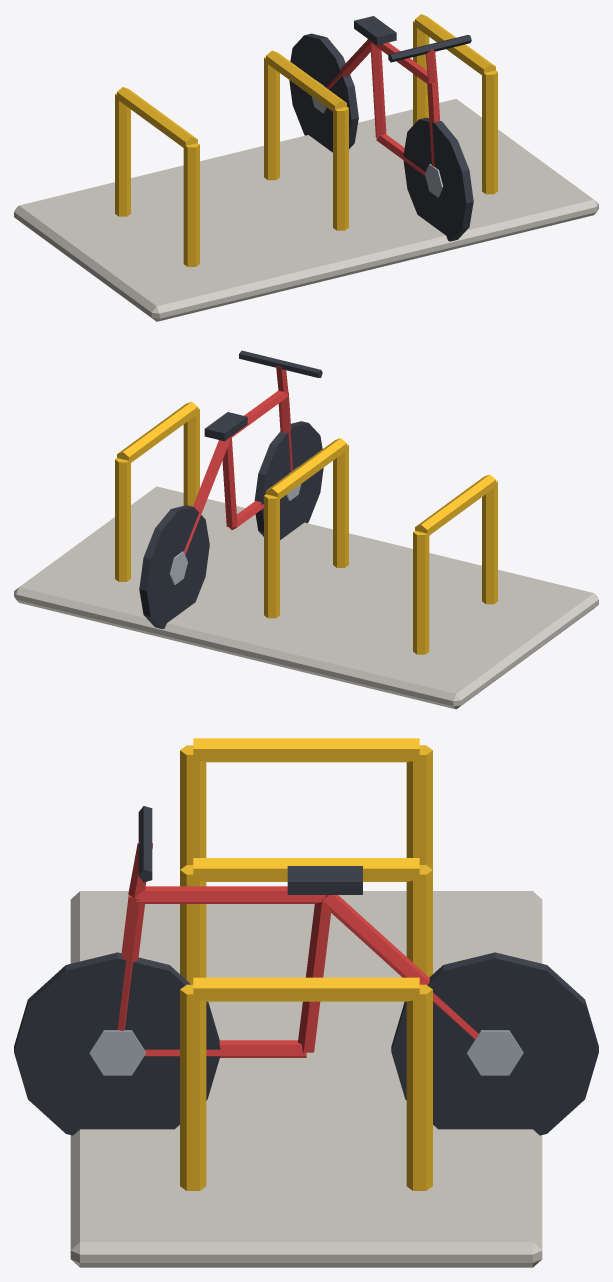
File: bicicletario.glb
The picture shows the model from 3 angles, top to bottom: view 1: azimuth 30°, elevation 25°; view 2: azimuth 150°, elevation 25°; view 3: azimuth 270°, elevation 25°; orthographic projection. The views are drawn at different scales.
Parts seen in each view (by area): view 1: corpo; view 2: corpo; view 3: corpo.
Boxes of the visible parts, x1=… form: corpo: x1=14, y1=14, x2=598, y2=321; corpo: x1=14, y1=350, x2=598, y2=709; corpo: x1=14, y1=738, x2=598, y2=1267.
Bounding box in the file's own units: 0.9 × 0.3676 × 0.62.
